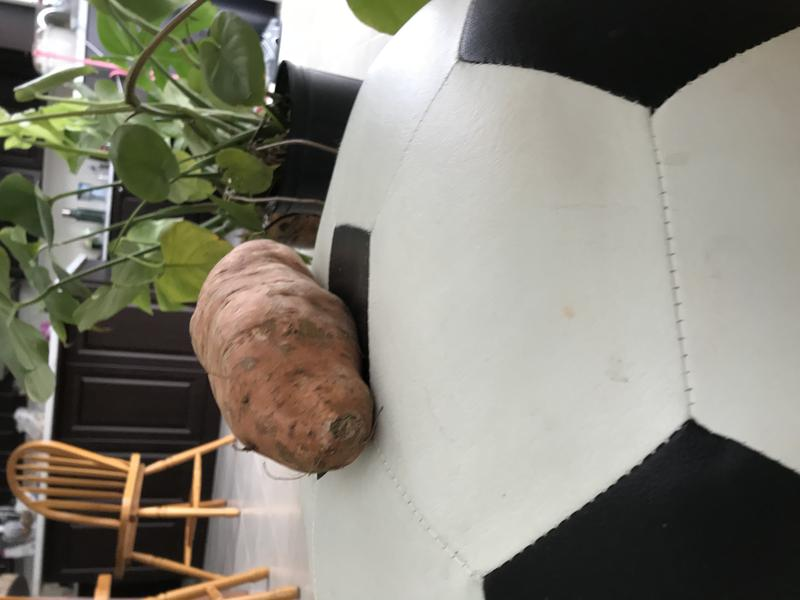sweet_potato: (175, 232, 389, 484)
